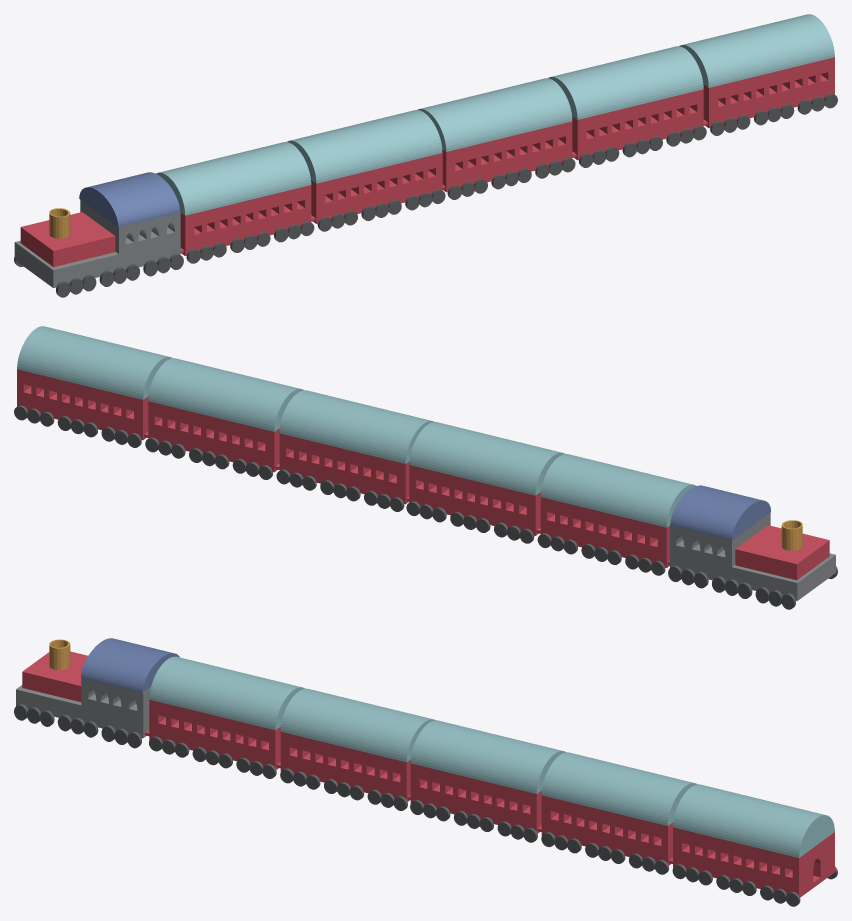
Rendered from train.glb.
3 views of the same model, one above another, from view 1: azimuth 30°, elevation 25°; view 2: azimuth 150°, elevation 25°; view 3: azimuth 330°, elevation 25° (orthographic).
Visible parts, largest first — view 1: Mesh_Mesh_head_geo.001_lambert2SG.001; view 2: Mesh_Mesh_head_geo.001_lambert2SG.001; view 3: Mesh_Mesh_head_geo.001_lambert2SG.001.
Part boxes in pixels (bbox=[...]): Mesh_Mesh_head_geo.001_lambert2SG.001: bbox=[14, 14, 837, 297]; Mesh_Mesh_head_geo.001_lambert2SG.001: bbox=[14, 326, 837, 609]; Mesh_Mesh_head_geo.001_lambert2SG.001: bbox=[14, 638, 837, 906].
Bounding box in the file's own units: 305 × 28 × 29.5.
